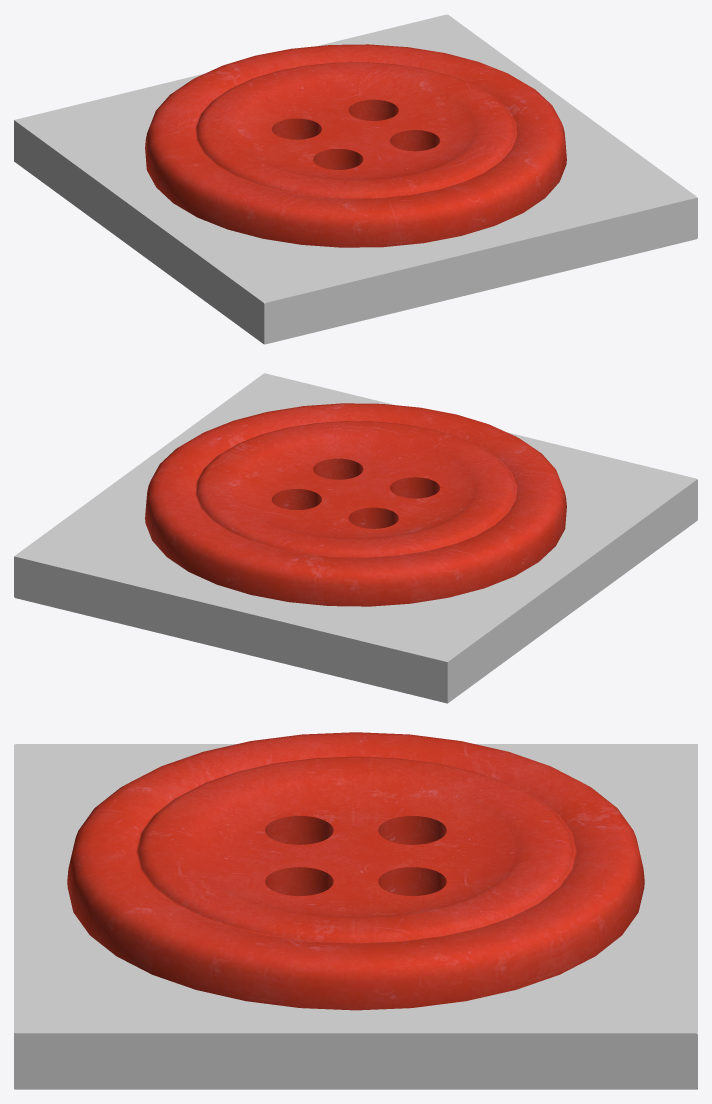
File: button.glb
3 views of the same model, one above another, from view 1: azimuth 30°, elevation 25°; view 2: azimuth 150°, elevation 25°; view 3: azimuth 270°, elevation 25° (orthographic). The views are drawn at different scales.
Visible parts, largest first — view 1: Object_2, Cube; view 2: Object_2, Cube; view 3: Object_2, Cube.
Boxes of the visible parts, box(x1,y1,x2,y2) form: Object_2: box(145, 44, 566, 247); Cube: box(14, 14, 697, 344); Object_2: box(145, 403, 566, 606); Cube: box(14, 373, 697, 703); Object_2: box(67, 732, 644, 1010); Cube: box(14, 744, 697, 1089).
Size of the model in its own units: 5.89 by 0.9521 by 5.89.
1 material, 1 textured.
